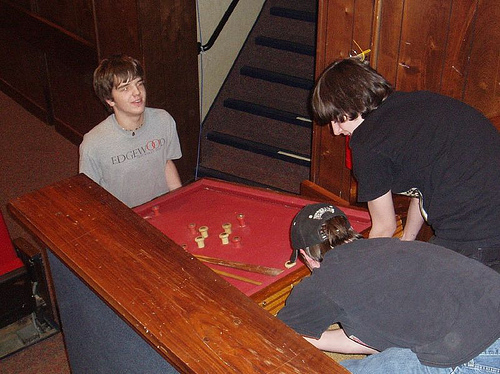without_mask: (324, 91, 369, 143), (105, 71, 149, 119)
